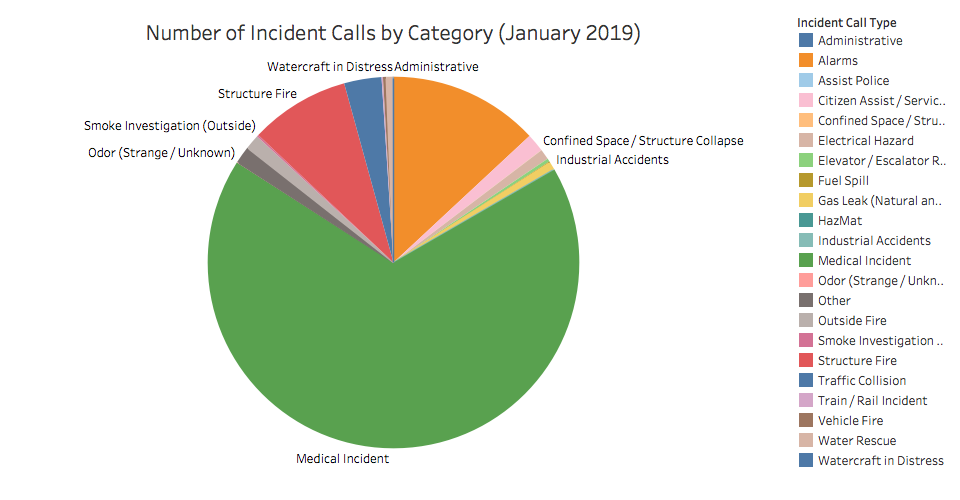

The page's visual inventory and layout, read from the dashboard file:
{"tool":"tableau","page":{"name":"Dashboard 1","canvas":[1560,800],"ordinal":0},"visuals":[{"type":"worksheet","title":"Sheet 1","mark":"Automatic","rows":["Call Type"],"cols":["Neighborhooods - Analysis Boundaries"],"box":[8,8,1544,784]},{"type":"legend","title":"Sheet 1","param":"[federated.0zl60b91ssrl7314vuj1e0ls7oev].[avg:Calculation_735845996843577344:qk]","box":[1387,16,130,76]}]}

Visuals, with their boxes in screenshot pixels (x1, y1, x2, y2), scaled from the page's 1560x800 canvas onto the 960x500 screenshot:
"Sheet 1" worksheet: <region>5, 5, 955, 495</region>
"Sheet 1" legend: <region>854, 10, 934, 58</region>
